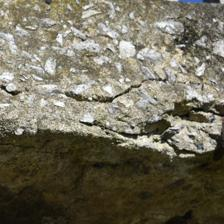Crack: (77, 74, 130, 149), (122, 111, 154, 156)
